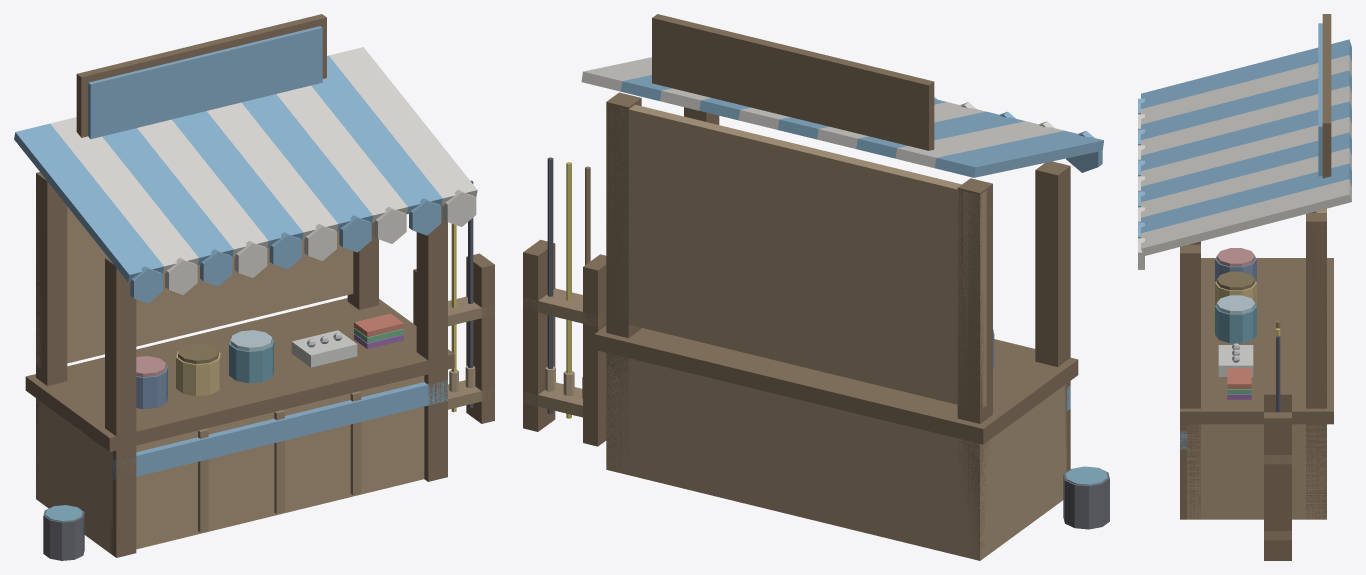
The model's file is BaitShopStand.glb.
The picture shows the model from 3 angles, left to right: view 1: azimuth 30°, elevation 25°; view 2: azimuth 150°, elevation 25°; view 3: azimuth 270°, elevation 25°; orthographic projection. The views are drawn at different scales.
Parts seen in each view (by area): view 1: BaitShopStand; view 2: BaitShopStand; view 3: BaitShopStand.
Boxes of the visible parts, left/top/right/bottom form: BaitShopStand: left=14, top=14, right=494, bottom=560; BaitShopStand: left=523, top=14, right=1109, bottom=560; BaitShopStand: left=1138, top=14, right=1351, bottom=560.
Size of the model in its own units: 14.32 by 11.9 by 6.11.
